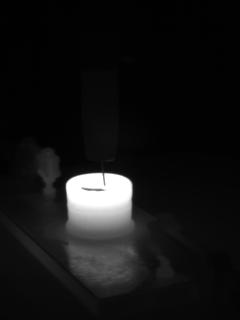tip_wire_left: (86, 156, 106, 188)
tip_wire_right: (103, 154, 118, 188)
